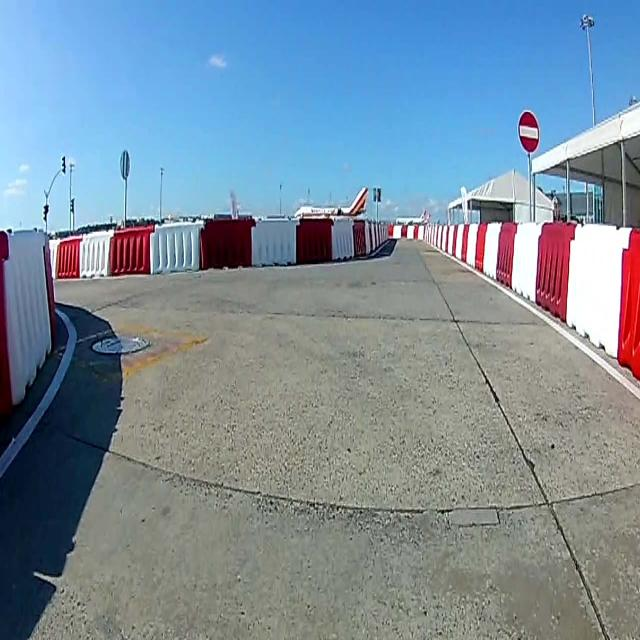girisyok: (518, 109, 540, 153)
